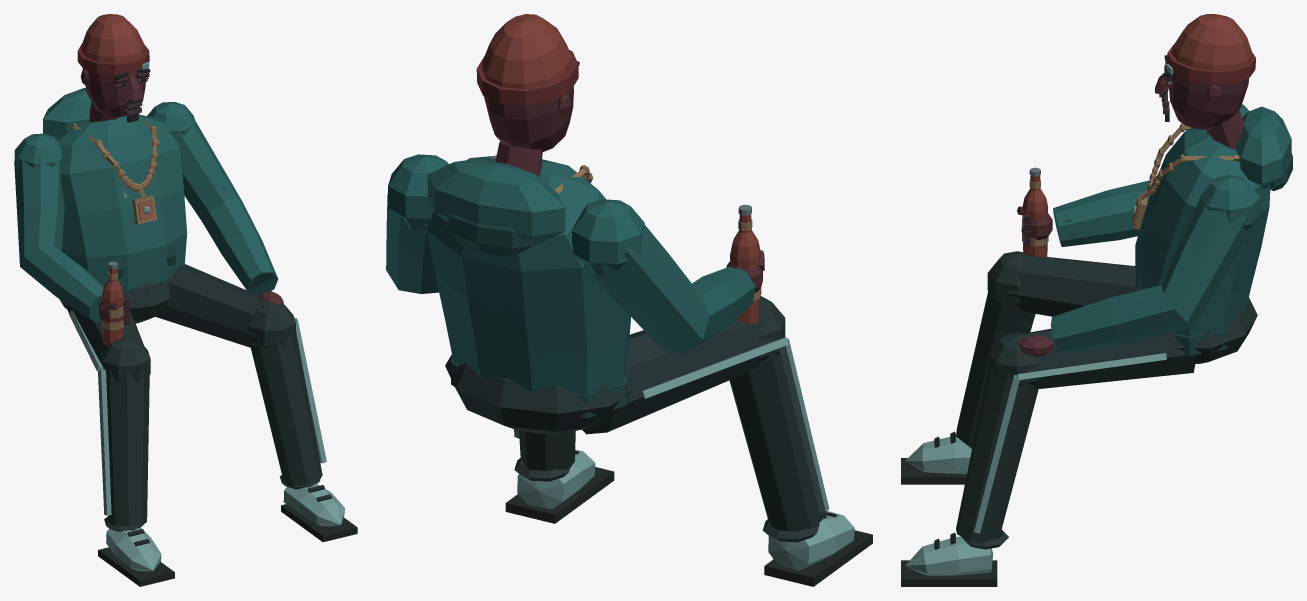
File: betiv.glb
The picture shows the model from 3 angles, left to right: view 1: azimuth 30°, elevation 25°; view 2: azimuth 150°, elevation 25°; view 3: azimuth 270°, elevation 25°; orthographic projection. The views are drawn at different scales.
Parts seen in each view (by area): view 1: Corp, GambaD, GambaS, BratBere, BratStang, Cap, CoapsaS, CoapsaD, SticlaMana; view 2: Corp, GambaD, BratBere, Cap, CoapsaD, GambaS, BratStang, SticlaMana; view 3: Corp, BratStang, GambaS, Cap, GambaD, CoapsaS, CoapsaD, BratBere, SticlaMana.
Part boxes in pixels (<box>): Corp: <box>43,88,187,323</box>; GambaD: <box>98,338,174,586</box>; GambaS: <box>248,302,357,542</box>; BratBere: <box>14,133,129,325</box>; BratStang: <box>147,102,283,304</box>; Cap: <box>77,14,150,122</box>; CoapsaS: <box>155,264,298,347</box>; CoapsaD: <box>66,286,143,371</box>; SticlaMana: <box>101,261,124,344</box>; Corp: <box>426,154,633,434</box>; GambaD: <box>729,296,872,586</box>; BratBere: <box>572,199,764,353</box>; Cap: <box>476,14,579,176</box>; CoapsaD: <box>582,316,788,434</box>; GambaS: <box>505,429,614,523</box>; BratStang: <box>386,154,448,293</box>; SticlaMana: <box>730,204,761,324</box>; Corp: <box>1132,106,1292,363</box>; BratStang: <box>1017,175,1260,356</box>; GambaS: <box>901,332,1038,586</box>; Cap: <box>1155,14,1255,148</box>; GambaD: <box>901,251,1035,484</box>; CoapsaS: <box>1016,328,1196,389</box>; CoapsaD: <box>1008,255,1135,316</box>; BratBere: <box>1017,104,1249,246</box>; SticlaMana: <box>1021,167,1048,257</box>.
Bounding box in the file's own units: 0.7365 × 1.4 × 0.9776.
